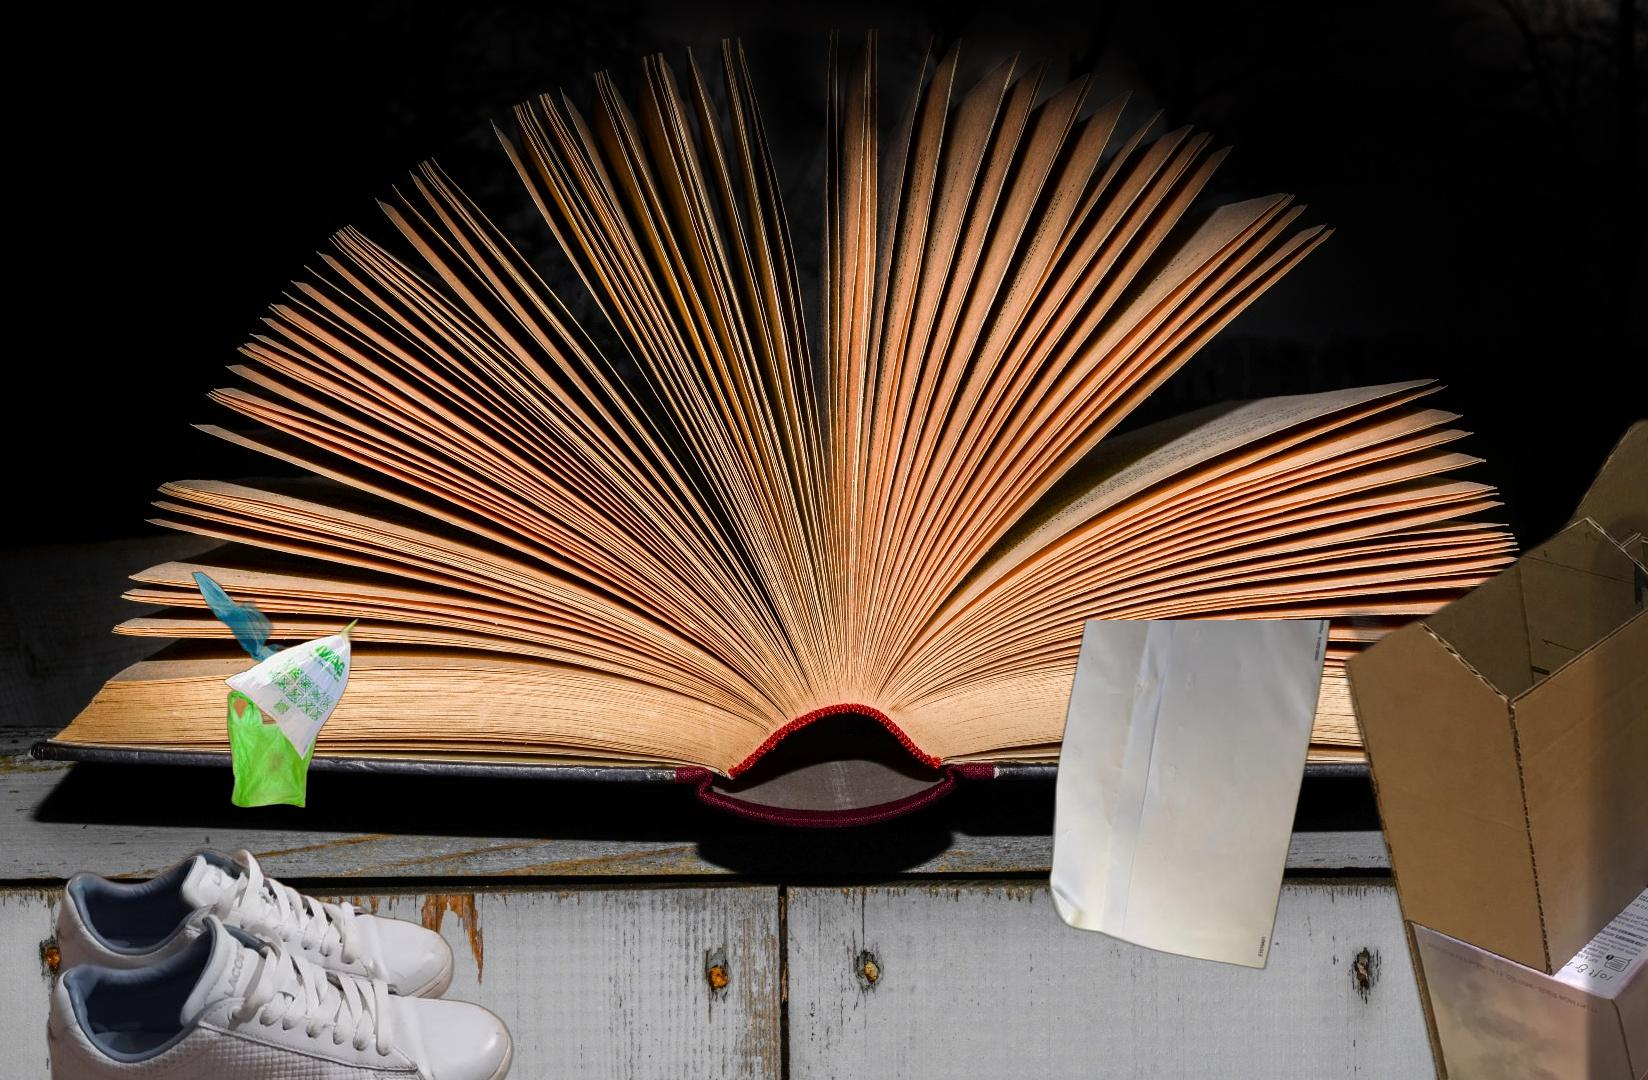paper: (1044, 620, 1336, 973), (109, 1066, 528, 1080)
paper-bag: (1412, 352, 1648, 600)
plastic-bag: (190, 571, 363, 810)
plastic-bottles: (1331, 603, 1509, 811)
shoes: (41, 841, 518, 1080)
trashbox-cardboard: (1337, 407, 1648, 1080), (1331, 479, 1648, 1080)
